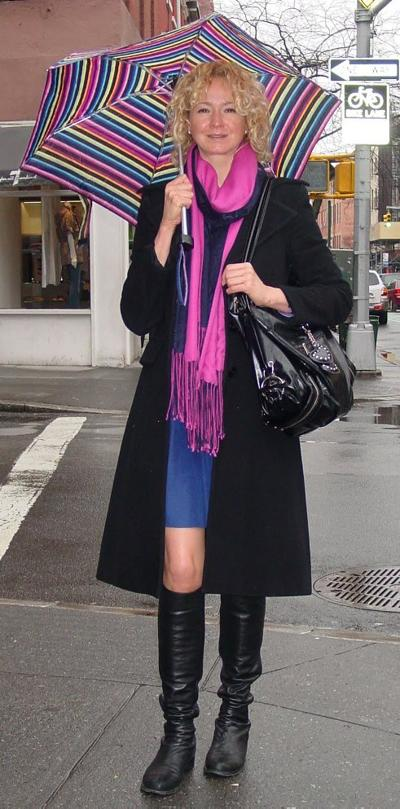person: (96, 59, 354, 796)
